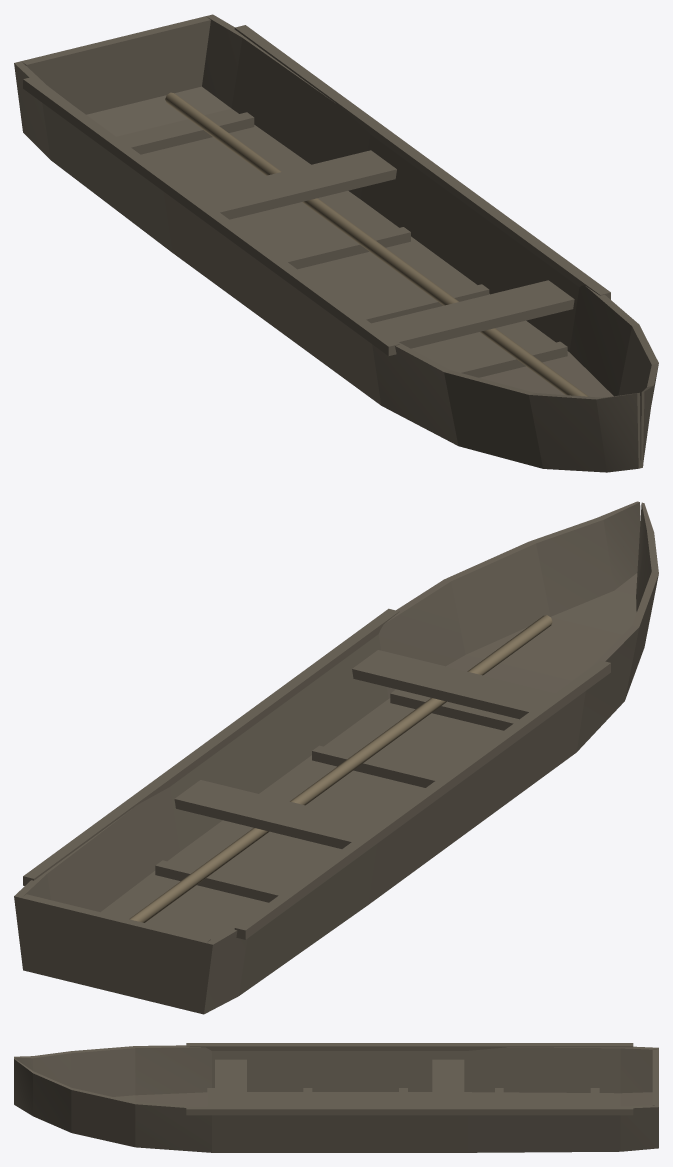
The model's file is levels-boat-1000.glb.
The picture shows the model from 3 angles, top to bottom: view 1: azimuth 30°, elevation 25°; view 2: azimuth 150°, elevation 25°; view 3: azimuth 270°, elevation 25°; orthographic projection. The views are drawn at different scales.
Parts seen in each view (by area): view 1: oak, gunwale-rail-starboard, thwart-01, thwarts.02, gunwale-rail-port, punt-pole, floor-frame-01, floor-frames.03, floor-frames.05, floor-frames.04; view 2: oak, gunwale-rail-starboard, thwart-01, thwarts.02, gunwale-rail-port, punt-pole, floor-frames.02, floor-frames.04, floor-frames.05; view 3: oak, gunwale-rail-port, gunwale-rail-starboard, thwart-01, thwarts.02, floor-frame-01, floor-frames.04.
Part boxes in pixels (x1=…): oak: x1=14, y1=14, x2=658, y2=472; gunwale-rail-starboard: x1=23, y1=76, x2=399, y2=355; thwart-01: x1=194, y1=150, x2=396, y2=219; thwarts.02: x1=371, y1=280, x2=574, y2=348; gunwale-rail-port: x1=234, y1=25, x2=610, y2=299; punt-pole: x1=165, y1=92, x2=588, y2=396; floor-frame-01: x1=124, y1=112, x2=254, y2=154; floor-frames.03: x1=281, y1=227, x2=410, y2=269; floor-frames.05: x1=448, y1=341, x2=567, y2=377; floor-frames.04: x1=359, y1=284, x2=489, y2=323; oak: x1=14, y1=501, x2=658, y2=1014; gunwale-rail-starboard: x1=234, y1=660, x2=610, y2=939; thwart-01: x1=174, y1=780, x2=377, y2=848; thwarts.02: x1=352, y1=650, x2=554, y2=719; gunwale-rail-port: x1=23, y1=608, x2=399, y2=885; punt-pole: x1=129, y1=615, x2=552, y2=922; floor-frames.02: x1=155, y1=860, x2=285, y2=902; floor-frames.04: x1=312, y1=745, x2=441, y2=787; floor-frames.05: x1=390, y1=689, x2=518, y2=730; oak: x1=14, y1=1045, x2=658, y2=1152; gunwale-rail-port: x1=186, y1=1106, x2=633, y2=1115; gunwale-rail-starboard: x1=186, y1=1043, x2=633, y2=1050; thwart-01: x1=432, y1=1059, x2=464, y2=1106; thwarts.02: x1=215, y1=1059, x2=246, y2=1106; floor-frame-01: x1=590, y1=1088, x2=599, y2=1106; floor-frames.04: x1=303, y1=1088, x2=312, y2=1106.
Bounding box in the file's own units: 1.23 × 0.57 × 5.05.
